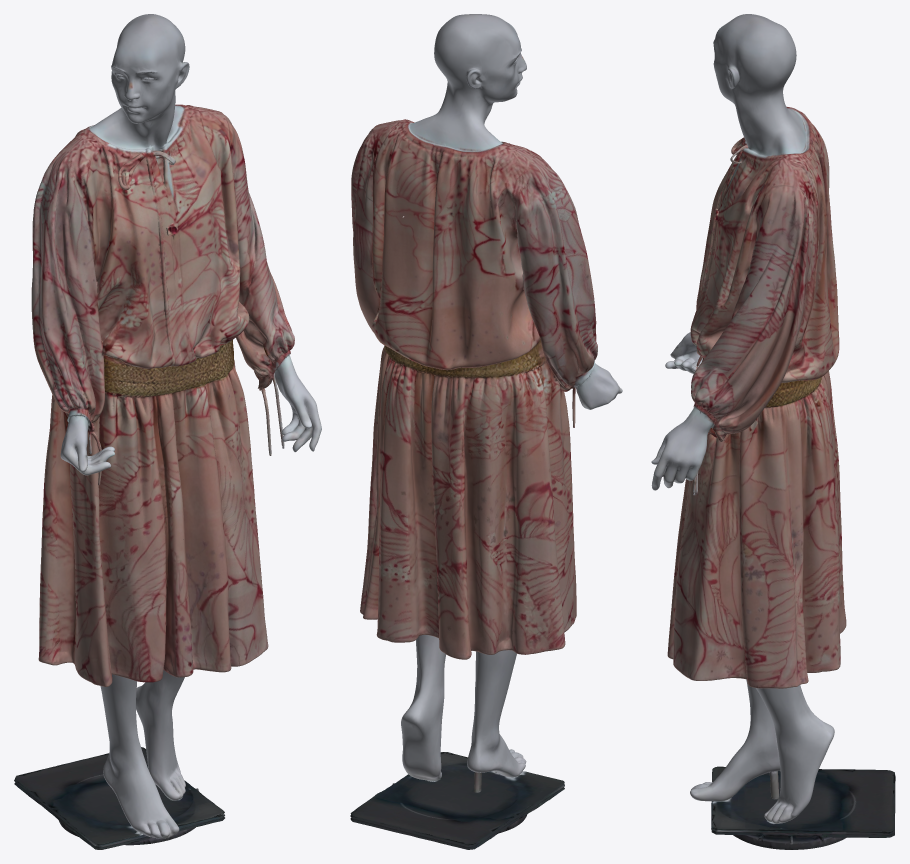
3 views of the same model, side by side, from view 1: azimuth 30°, elevation 25°; view 2: azimuth 150°, elevation 25°; view 3: azimuth 270°, elevation 25° (orthographic). The views are drawn at different scales.
Visible parts, largest first — view 1: tripo_node_ba201338-864a-4471-95b0-b9ba3d127d5a; view 2: tripo_node_ba201338-864a-4471-95b0-b9ba3d127d5a; view 3: tripo_node_ba201338-864a-4471-95b0-b9ba3d127d5a.
Boxes of the visible parts, x1=… form: tripo_node_ba201338-864a-4471-95b0-b9ba3d127d5a: x1=14, y1=14, x2=321, y2=849; tripo_node_ba201338-864a-4471-95b0-b9ba3d127d5a: x1=350, y1=14, x2=622, y2=849; tripo_node_ba201338-864a-4471-95b0-b9ba3d127d5a: x1=651, y1=14, x2=895, y2=849.
Size of the model in its own units: 0.3078 by 0.9785 by 0.2702.
1 material, 1 textured.
